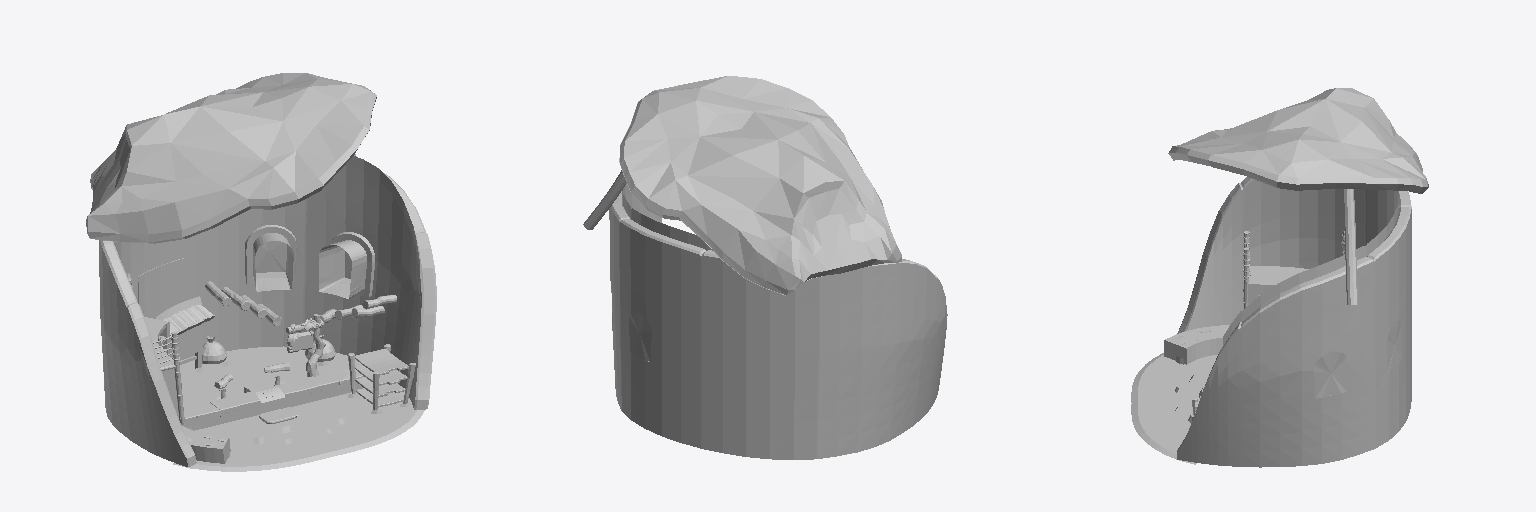
Rendered from Post Office.obj.
3 views of the same model, side by side, from view 1: azimuth 30°, elevation 25°; view 2: azimuth 150°, elevation 25°; view 3: azimuth 270°, elevation 25° (orthographic).
Visible parts, largest first — view 1: wall1_mdl1.001, roof1_mdl.001, ground1_mdl.001, light1_mdl.001, wall1_mdl.001, window_light_mdl.001, counter1_mdl.001, ground_edge1_mdl.001, shelf1_mdl.001, stairs1_mdl.001, shelf2_mdl.001, mapboard1_mdl.001 (+6 smaller); view 2: wall1_mdl1.001, roof1_mdl.001, light1_mdl.001, background2_mdl.001, light3_mdl.001; view 3: wall1_mdl1.001, roof1_mdl.001, ground1_mdl.001, light1_mdl.001, background2_mdl.001, table1_mdl.001, shelf2_mdl.001, light3_mdl.001, light2_mdl.001, ground_edge1_mdl.001.
Boxes of the visible parts, x1,y1,x2,y2 form: wall1_mdl1.001: [99, 173, 436, 466]; roof1_mdl.001: [86, 73, 376, 243]; ground1_mdl.001: [180, 346, 416, 466]; light1_mdl.001: [122, 156, 419, 300]; wall1_mdl.001: [138, 225, 374, 312]; window_light_mdl.001: [253, 233, 366, 298]; counter1_mdl.001: [184, 368, 363, 427]; ground_edge1_mdl.001: [173, 341, 424, 471]; shelf1_mdl.001: [348, 344, 415, 409]; stairs1_mdl.001: [205, 281, 396, 325]; shelf2_mdl.001: [144, 317, 184, 426]; mapboard1_mdl.001: [155, 305, 214, 368]; wall1_mdl1.001: [609, 191, 947, 459]; roof1_mdl.001: [620, 76, 901, 295]; light1_mdl.001: [622, 183, 712, 250]; background2_mdl.001: [611, 289, 651, 362]; light3_mdl.001: [583, 170, 626, 229]; wall1_mdl1.001: [1177, 177, 1411, 467]; roof1_mdl.001: [1168, 88, 1427, 187]; ground1_mdl.001: [1138, 355, 1217, 453]; light1_mdl.001: [1223, 189, 1398, 345]; background2_mdl.001: [1314, 321, 1401, 398]; table1_mdl.001: [1164, 325, 1229, 364]; shelf2_mdl.001: [1243, 231, 1308, 308]; light3_mdl.001: [1343, 189, 1357, 304]; light2_mdl.001: [1208, 161, 1428, 193]; ground_edge1_mdl.001: [1131, 353, 1196, 464].
Bounding box in the file's own units: 14.19 × 13.2 × 12.09.